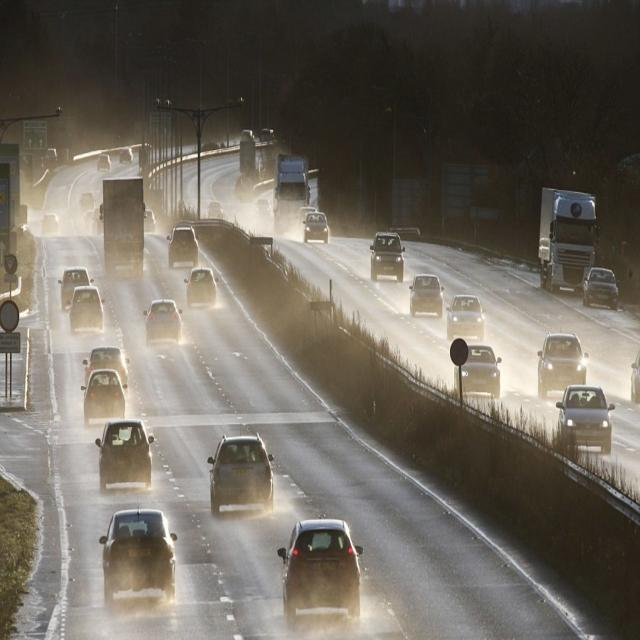bus: (535, 182, 597, 288), (98, 176, 146, 275), (272, 151, 310, 234)
car: (280, 519, 362, 624), (100, 509, 176, 593), (209, 433, 271, 518), (557, 382, 613, 458), (98, 418, 154, 488), (536, 331, 588, 399), (454, 344, 506, 395), (83, 368, 126, 424), (85, 346, 130, 390), (446, 294, 486, 341), (144, 298, 182, 346), (369, 232, 405, 280), (580, 267, 620, 309), (408, 274, 444, 317), (69, 290, 105, 332), (166, 225, 200, 268), (186, 268, 218, 308), (60, 267, 92, 303), (302, 210, 331, 245)
